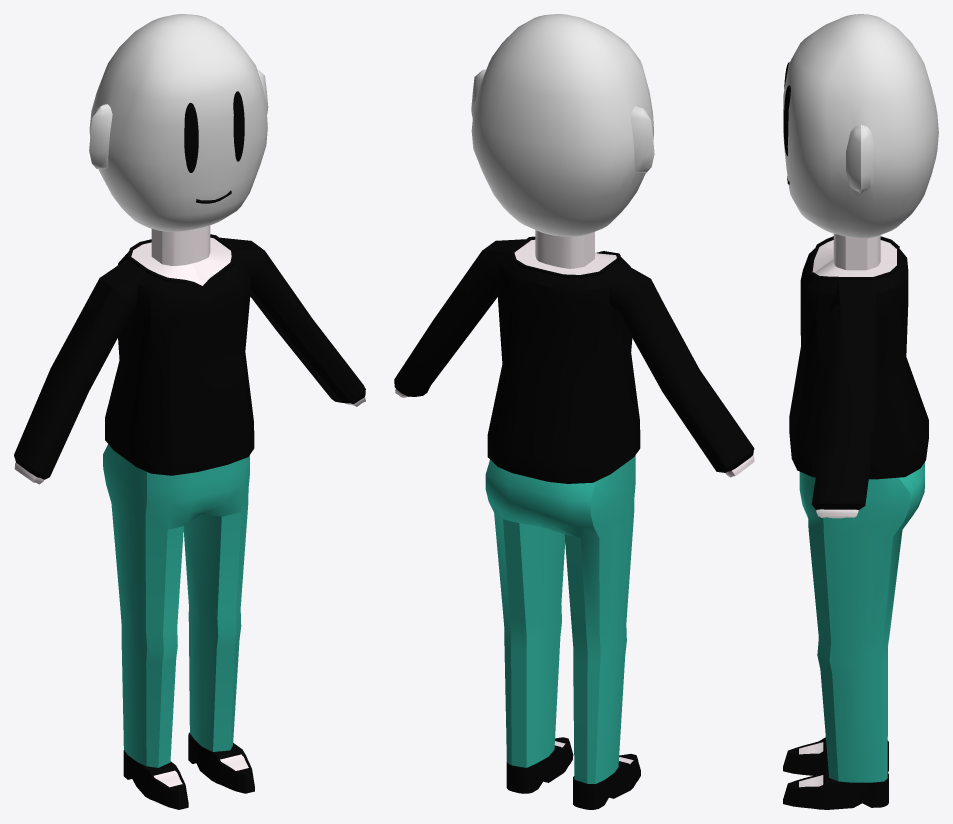
File: Inneres Kind.fbx
3 views of the same model, side by side, from view 1: azimuth 30°, elevation 25°; view 2: azimuth 150°, elevation 25°; view 3: azimuth 270°, elevation 25° (orthographic). The views are drawn at different scales.
Parts seen in each view (by area): view 1: Arme.002, Beine.003, Face.003, Schuhe.003, Eyes.003; view 2: Arme.002, Beine.003, Face.003, Schuhe.003; view 3: Arme.002, Face.003, Beine.003, Schuhe.003, Eyes.003.
Boxes of the visible parts, <box> form: Arme.002: <box>14,225,365,484</box>; Beine.003: <box>103,444,249,767</box>; Face.003: <box>89,14,268,231</box>; Schuhe.003: <box>123,732,254,809</box>; Eyes.003: <box>184,91,244,172</box>; Arme.002: <box>394,230,754,483</box>; Beine.003: <box>485,455,635,783</box>; Face.003: <box>471,14,654,236</box>; Schuhe.003: <box>506,737,640,809</box>; Arme.002: <box>789,233,928,518</box>; Face.003: <box>783,14,938,238</box>; Beine.003: <box>799,462,924,782</box>; Schuhe.003: <box>783,737,888,809</box>; Eyes.003: <box>784,62,790,155</box>.
Bounding box in the file's own units: 0.5733 × 1.23 × 0.2277.
